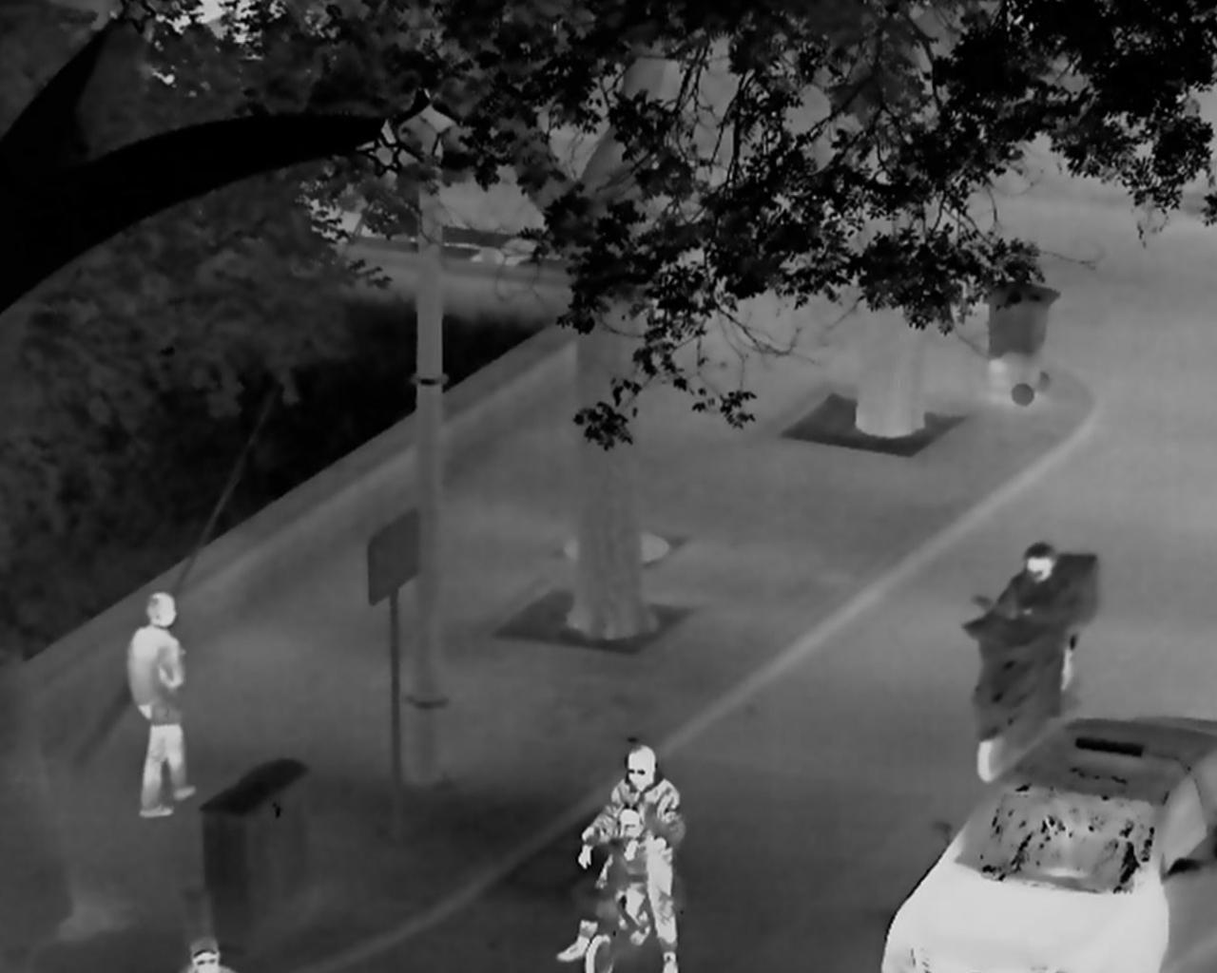person: (552, 734, 691, 973), (123, 592, 202, 818), (979, 542, 1076, 720), (577, 804, 655, 944), (176, 930, 234, 973)
